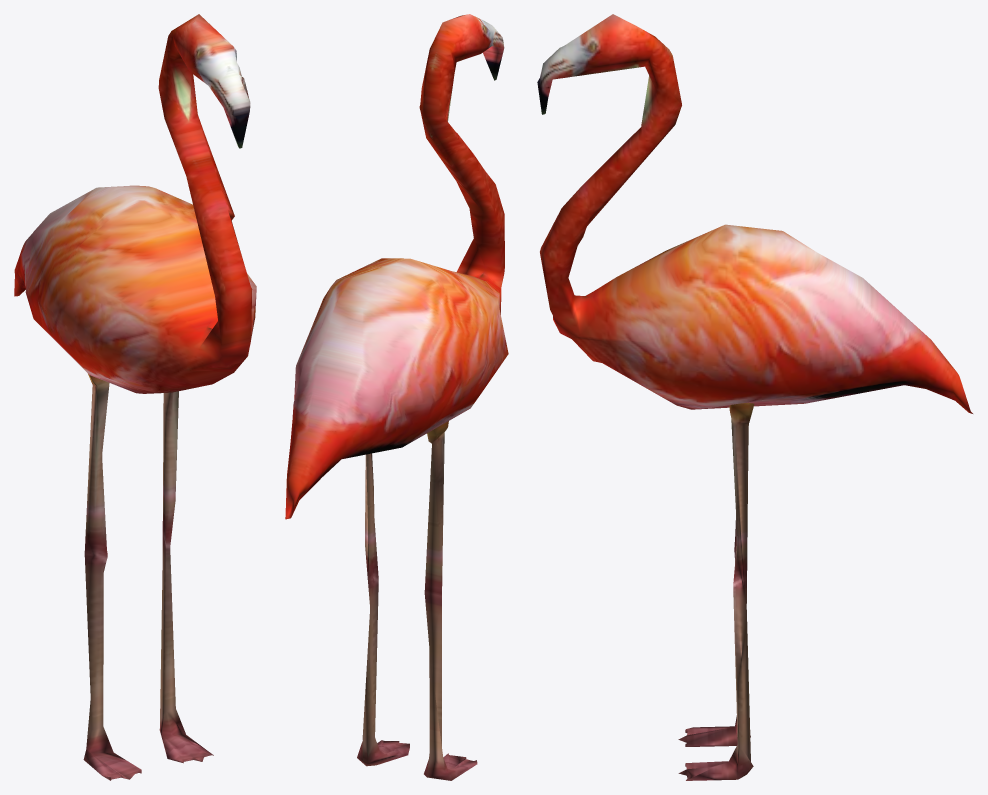
The model's file is Flamingo.glb.
3 views of the same model, side by side, from view 1: azimuth 30°, elevation 25°; view 2: azimuth 150°, elevation 25°; view 3: azimuth 270°, elevation 25° (orthographic). The views are drawn at different scales.
Visible parts, largest first — view 1: Obj3d66-13751661-4-348, Obj3d66-13751661-2-346; view 2: Obj3d66-13751661-4-348, Obj3d66-13751661-2-346; view 3: Obj3d66-13751661-4-348, Obj3d66-13751661-2-346.
Part boxes in pixels (x1=…): Obj3d66-13751661-4-348: x1=14, y1=14, x2=256, y2=393; Obj3d66-13751661-2-346: x1=83, y1=374, x2=213, y2=780; Obj3d66-13751661-4-348: x1=285, y1=14, x2=508, y2=519; Obj3d66-13751661-2-346: x1=357, y1=421, x2=477, y2=780; Obj3d66-13751661-4-348: x1=537, y1=14, x2=972, y2=413; Obj3d66-13751661-2-346: x1=678, y1=402, x2=754, y2=780.
Bounding box in the file's own units: 0.2309 × 0.9714 × 0.5182.
2 materials, 2 textured.
